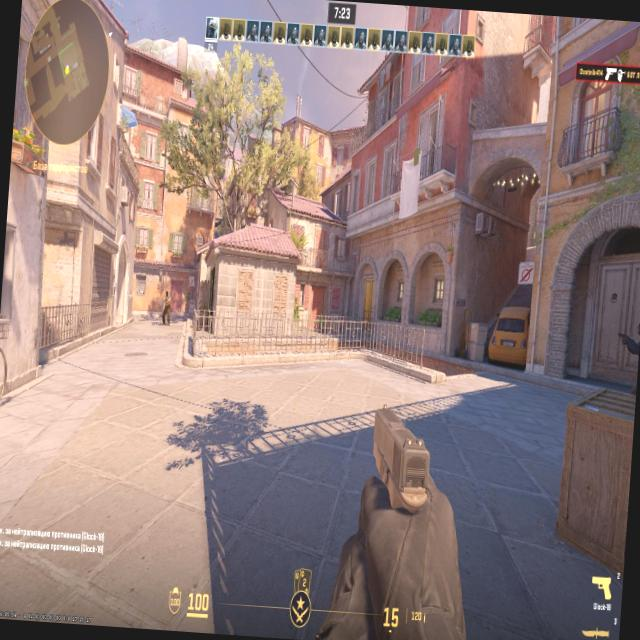T: (164, 291, 171, 317)
T_heat: (165, 294, 168, 300)
